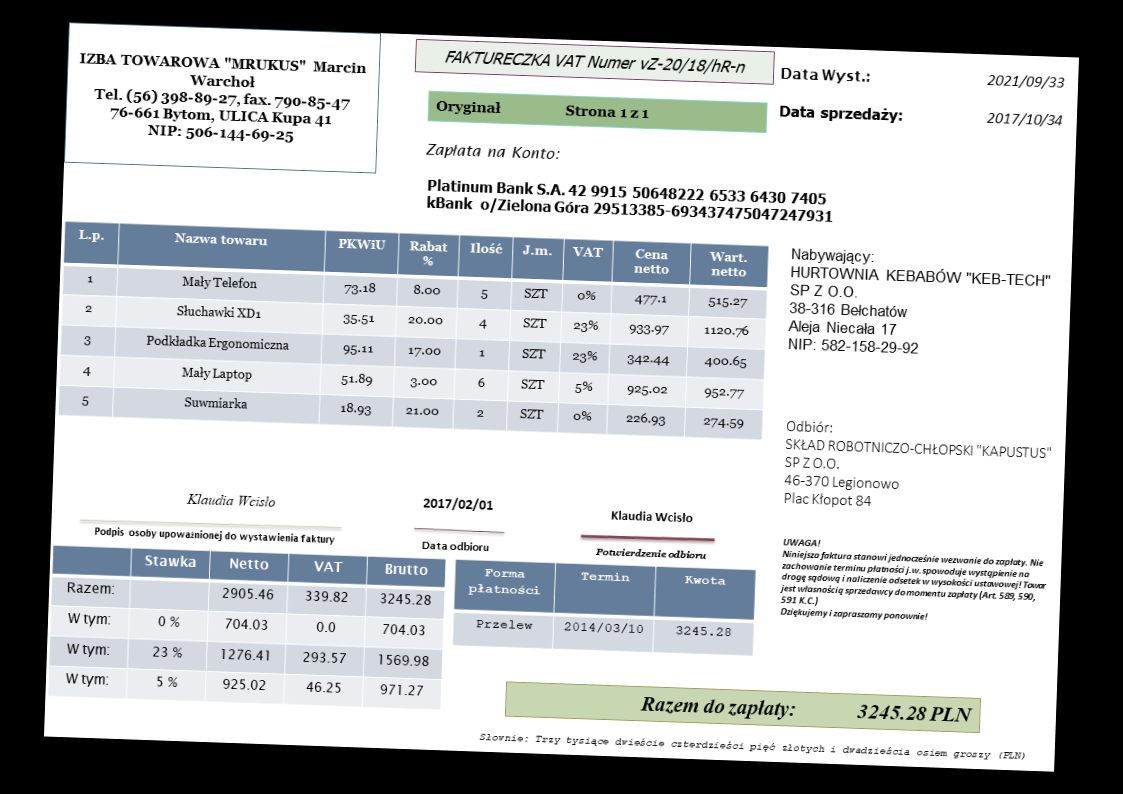Table: (57, 219, 770, 442), (46, 544, 446, 712), (451, 557, 758, 658)
TextBox: (786, 245, 1055, 362), (74, 48, 368, 150), (781, 417, 1055, 518), (777, 534, 1051, 629), (423, 176, 835, 225), (476, 730, 1029, 763), (638, 692, 974, 729), (441, 46, 749, 78), (433, 94, 651, 124), (92, 524, 338, 548), (423, 138, 563, 165), (775, 100, 906, 127), (779, 63, 873, 87), (183, 488, 278, 510), (593, 544, 709, 562), (984, 70, 1066, 93), (984, 107, 1065, 129), (607, 508, 694, 526), (419, 494, 496, 514), (419, 538, 489, 554)
